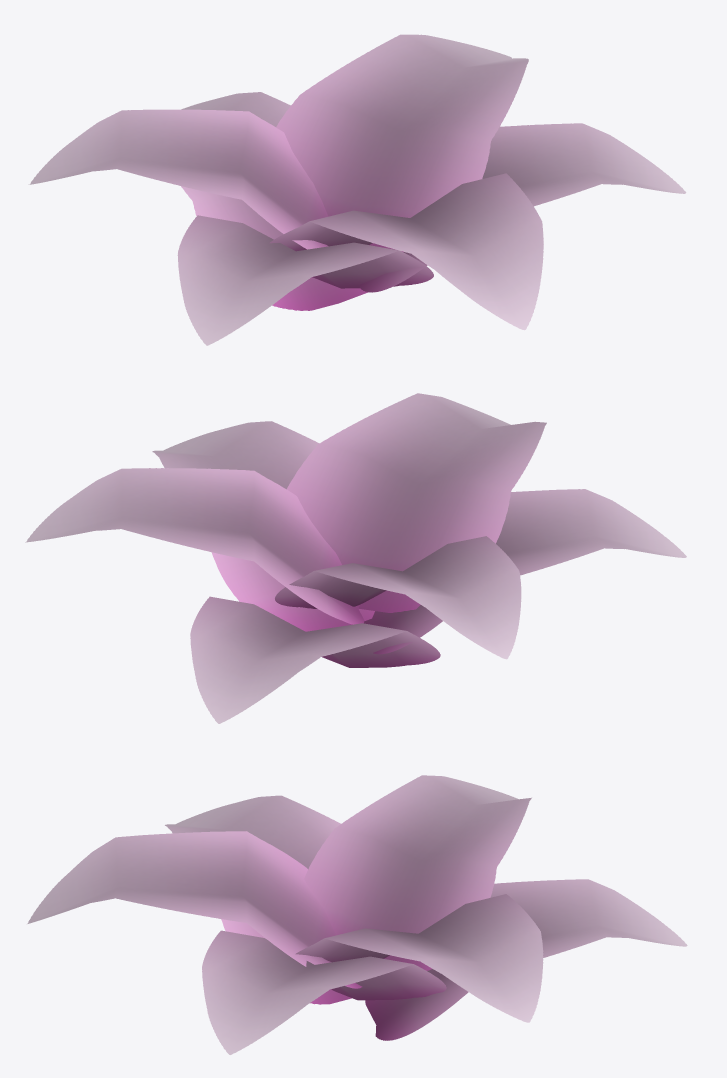
File: Plante_1b.fbx
The picture shows the model from 3 angles, top to bottom: view 1: azimuth 30°, elevation 25°; view 2: azimuth 150°, elevation 25°; view 3: azimuth 270°, elevation 25°; orthographic projection. The views are drawn at different scales.
Visible parts, largest first — view 1: Plante_1b; view 2: Plante_1b; view 3: Plante_1b.
Part boxes in pixels (left/top/right/bottom): Plante_1b: left=28, top=34, right=686, bottom=345; Plante_1b: left=25, top=393, right=686, bottom=723; Plante_1b: left=27, top=775, right=687, bottom=1054.
Size of the model in its own units: 29.5 by 7.6 by 29.75.
